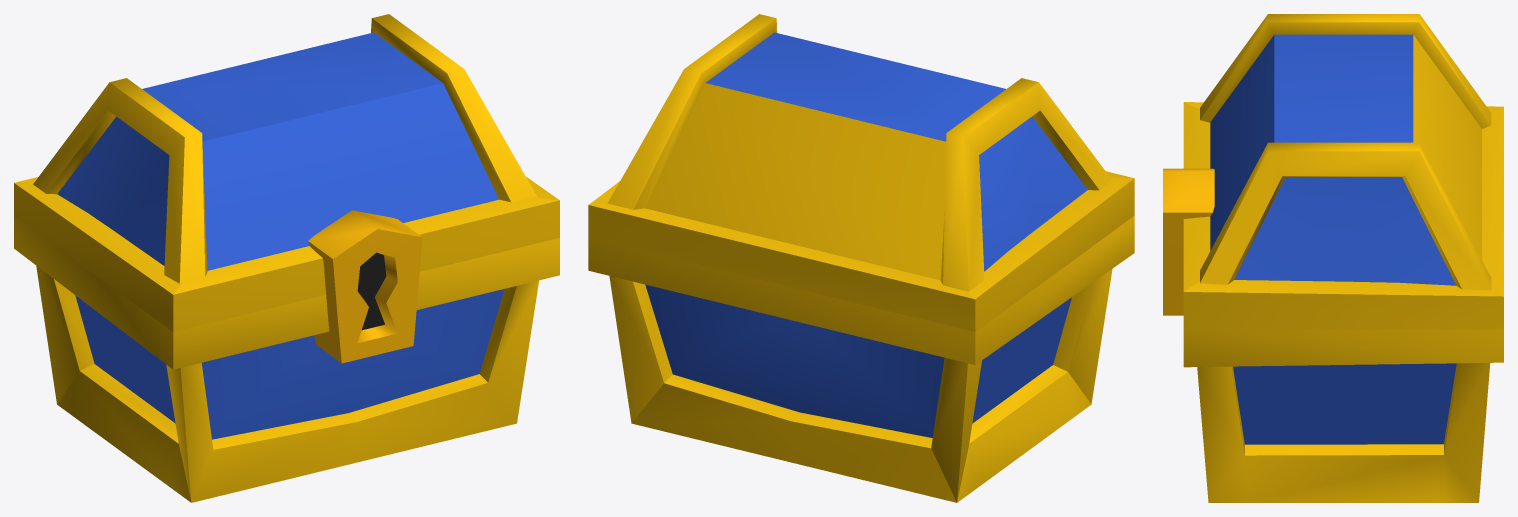
File: Chest_02.fbx
3 views of the same model, side by side, from view 1: azimuth 30°, elevation 25°; view 2: azimuth 150°, elevation 25°; view 3: azimuth 270°, elevation 25° (orthographic).
Parts seen in each view (by area): view 1: Chest_Top_02, Chest_Bottom_02; view 2: Chest_Top_02, Chest_Bottom_02; view 3: Chest_Top_02, Chest_Bottom_02.
Part boxes in pixels (x1,y1,x2,y2): Chest_Top_02: (14, 14, 559, 363); Chest_Bottom_02: (14, 216, 559, 502); Chest_Top_02: (588, 14, 1134, 331); Chest_Bottom_02: (588, 216, 1134, 502); Chest_Top_02: (1163, 14, 1503, 329); Chest_Bottom_02: (1183, 329, 1503, 502).
Bounding box in the file's own units: 50.28 × 42.03 × 38.15.
